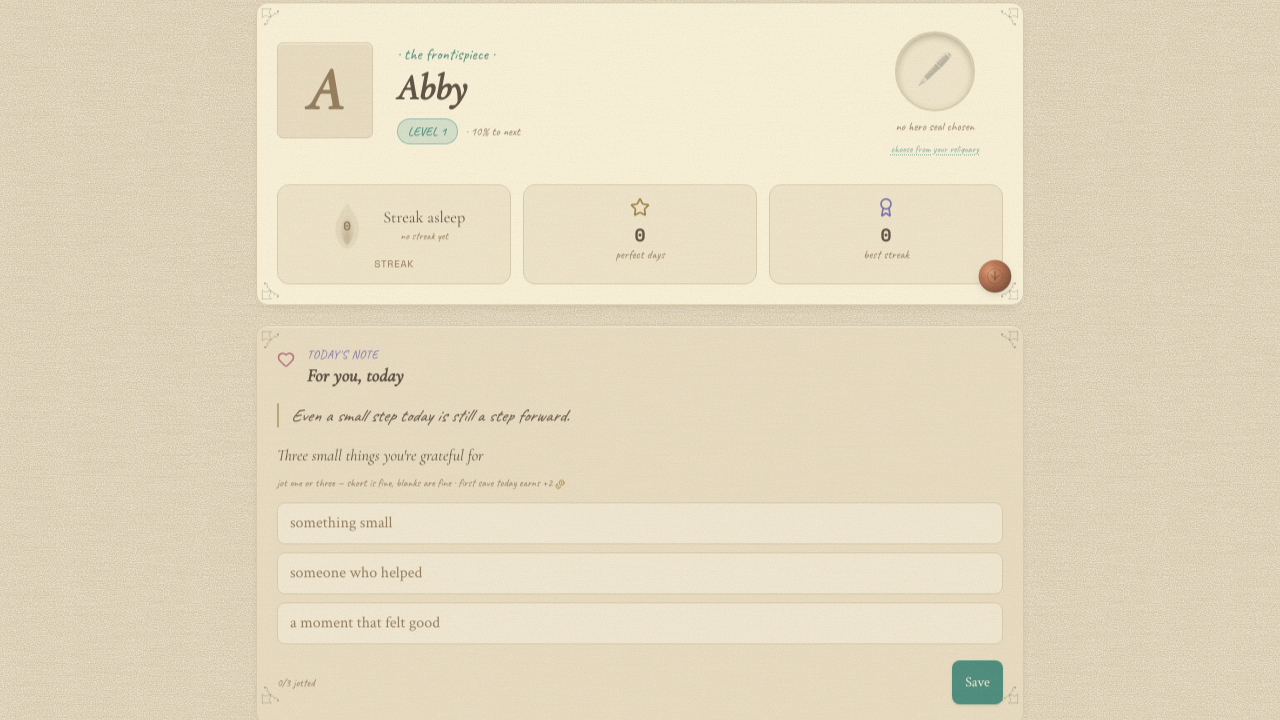
Scenario: Character (/sigil) › opens the trophy picker when the hero slot is clicked
Click the button "🖋️ no hero seal chosen choose from your reliquary" at (935, 94), box [883,23,987,164]
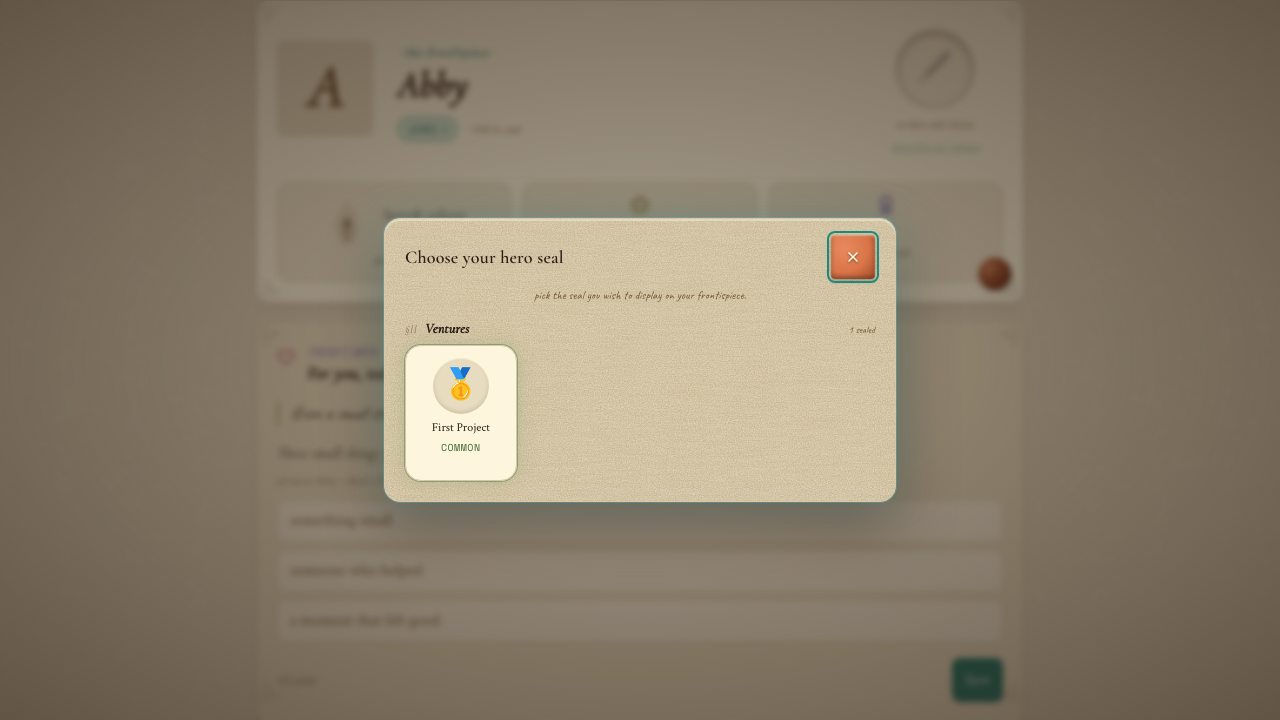
Now the dialog "Choose your hero seal" is shown, box [384,218,896,502]
